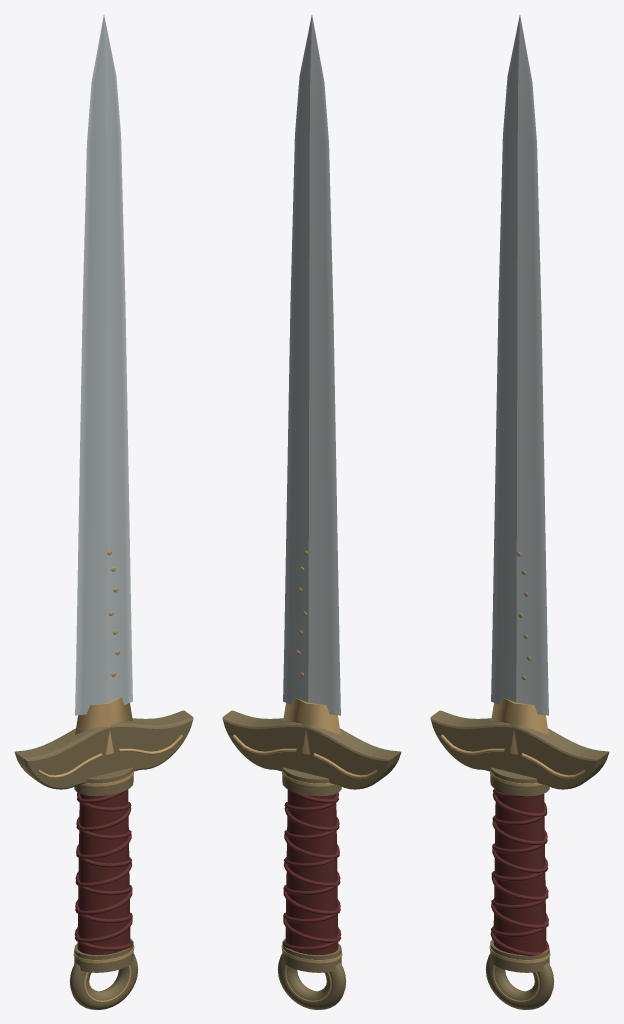
Rendered from PilgrimJian.glb.
3 views of the same model, side by side, from view 1: azimuth 30°, elevation 25°; view 2: azimuth 150°, elevation 25°; view 3: azimuth 330°, elevation 25° (orthographic).
Visible parts, largest first — view 1: Longitudinally polished steel, Dark cast bronze, Cord over lacquer, Polished brass wire; view 2: Longitudinally polished steel, Dark cast bronze, Cord over lacquer, Polished brass wire; view 3: Longitudinally polished steel, Dark cast bronze, Cord over lacquer, Polished brass wire.
Boxes of the visible parts, x1,y1,x2,y2 form: Longitudinally polished steel: (75, 15, 132, 715); Dark cast bronze: (14, 710, 193, 1009); Cord over lacquer: (74, 789, 132, 955); Polished brass wire: (38, 550, 183, 1002); Longitudinally polished steel: (283, 15, 340, 715); Dark cast bronze: (222, 710, 401, 1009); Cord over lacquer: (283, 789, 341, 955); Polished brass wire: (232, 550, 377, 1002); Longitudinally polished steel: (491, 15, 548, 715); Dark cast bronze: (430, 710, 609, 1009); Cord over lacquer: (490, 788, 548, 955); Polished brass wire: (440, 552, 585, 1002).
Size of the model in its own units: 0.2988 by 1.67 by 0.0735.
